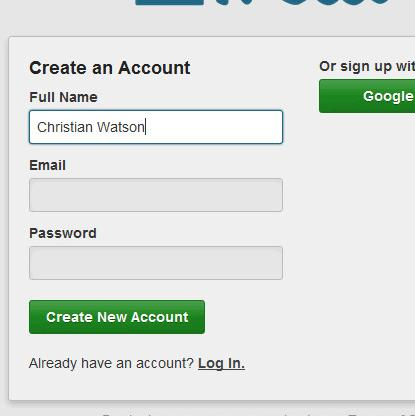button: (29, 299, 207, 335)
field: (27, 108, 285, 145), (26, 177, 284, 214), (27, 244, 284, 280)
field_with_label: (25, 159, 286, 216), (25, 91, 287, 147), (25, 227, 286, 282)
